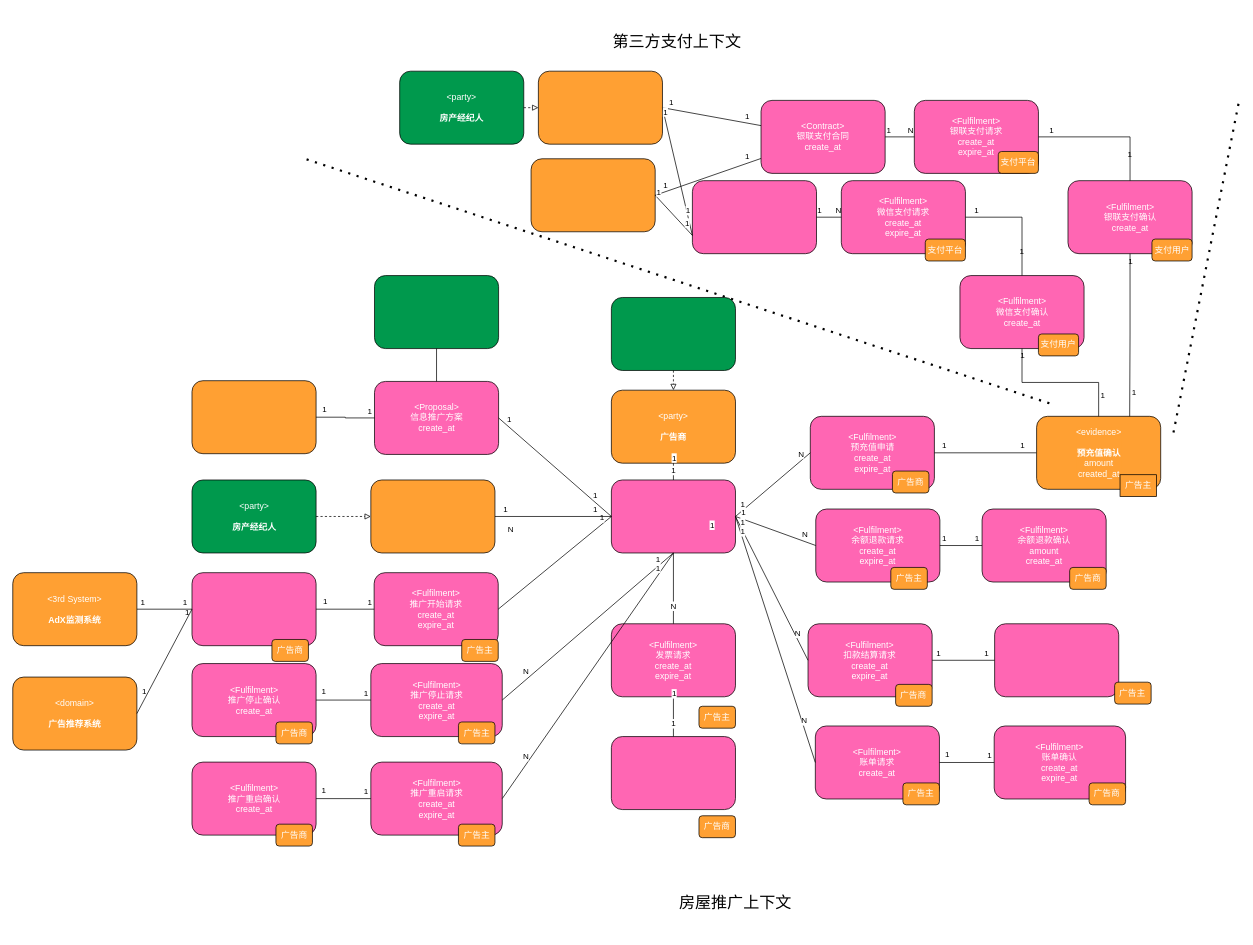
Image size: 1253x945. Some labels were removed from this diagram. Here are the shapes that lost their labels. From the top down, the centre of each, then its label:
At point 600,107: "<party> 支付用户".
At point 592,195: "<party> 支付平台".
At point 754,217: "<Contract> 微信支付合同 create_at".
At point 436,312: "<thing> 房屋租赁信息".
At point 673,333: "<party> 思沃租房".
At point 253,417: "<domain> 推广费用计算".
At point 432,516: "<party> 广告主".
At point 673,516: "<Contract> 信息推广服务协议 create_at".
At point 253,609: "<Fulfilment> 推广开始确认 create_at".
At point 1056,660: "<Fulfilment> 扣款结算确认 amount create_at".
At point 673,773: "<Fulfilment> 发票确认 create_at".
